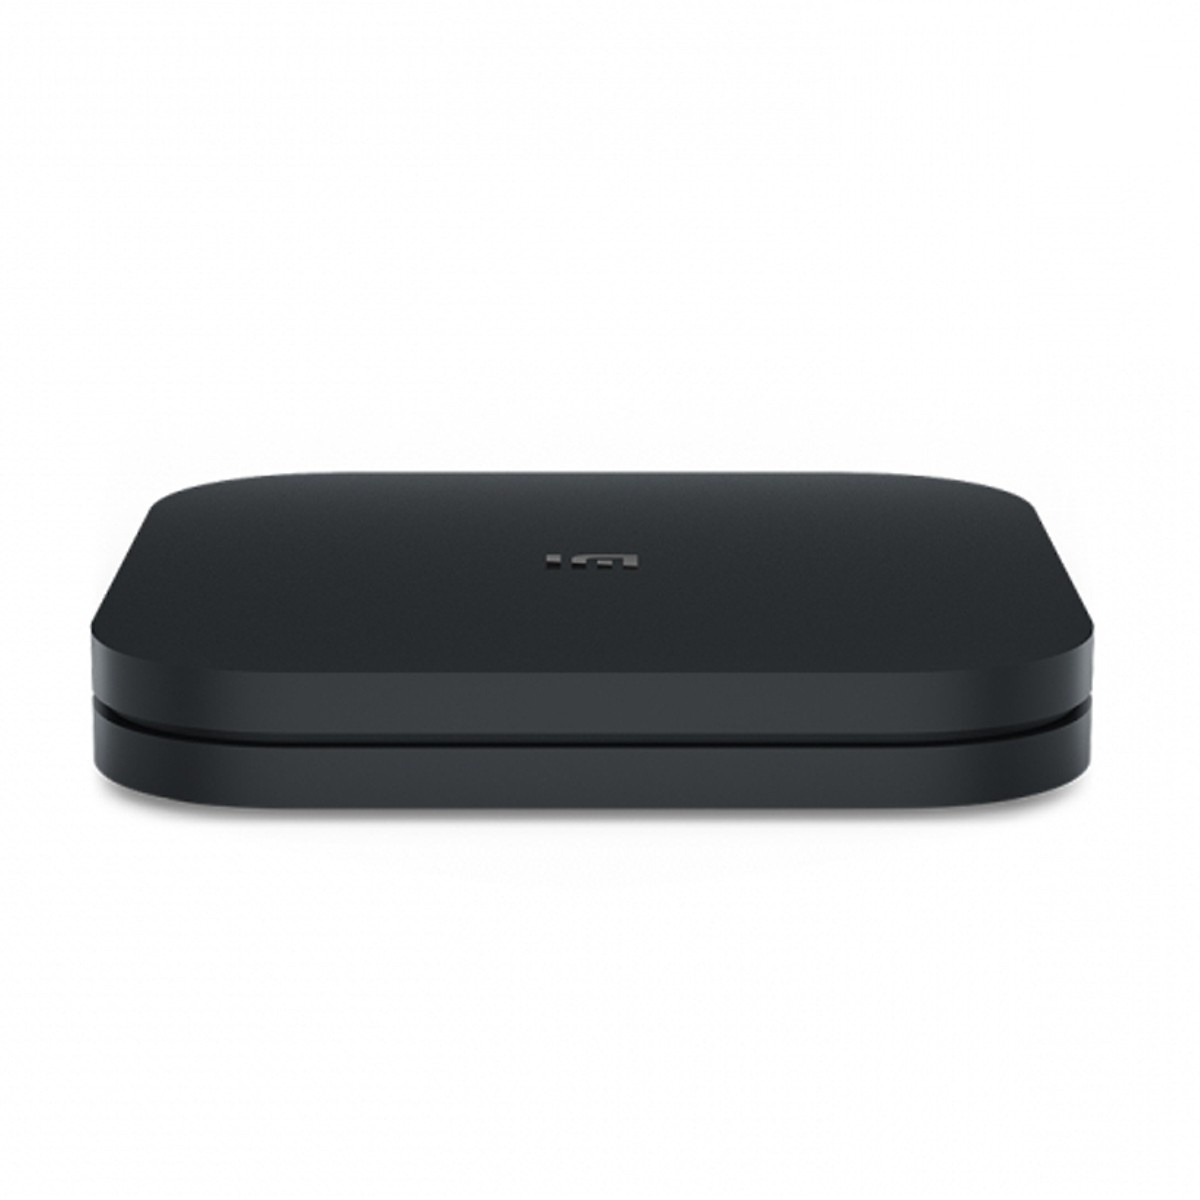Xiaomi: (412, 509, 705, 734)
